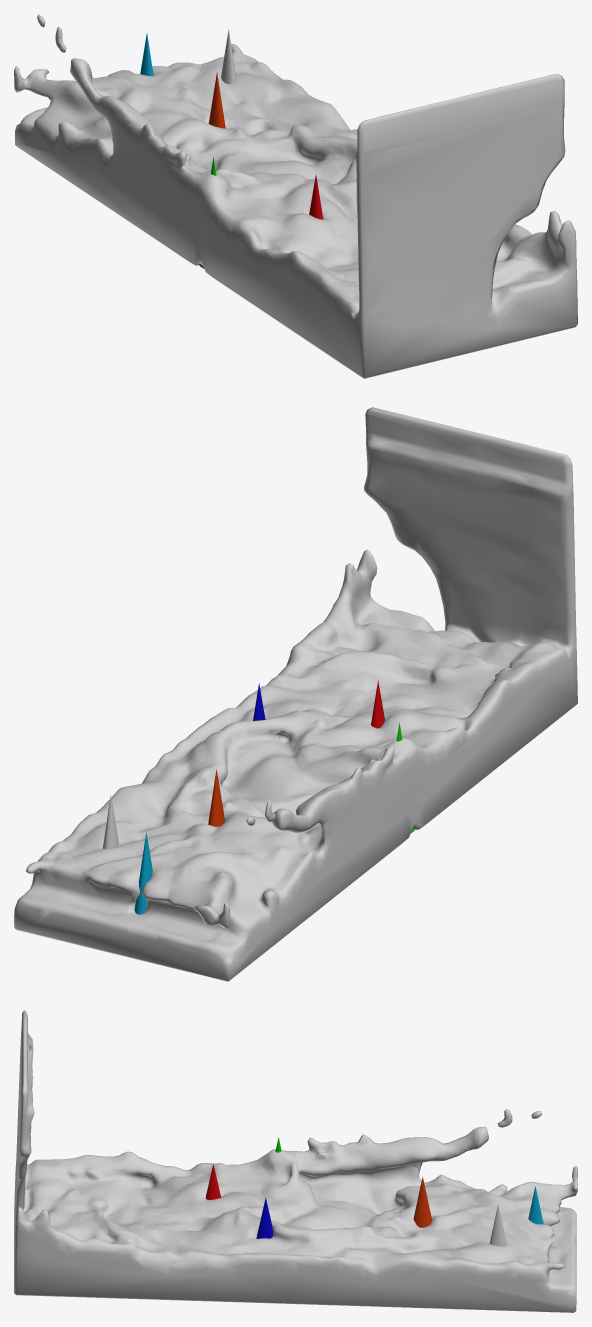
3 renders of one model, top to bottom at view 1: azimuth 30°, elevation 25°; view 2: azimuth 150°, elevation 25°; view 3: azimuth 270°, elevation 25°, orthographic. The views are drawn at different scales.
Visible parts, largest first — view 1: Liquid_Domain, 円錐.004, 円錐; view 2: Liquid_Domain; view 3: Liquid_Domain, 円錐.004, 円錐, 円錐.002.
Boxes of the visible parts, x1,y1,x2,y2 form: Liquid_Domain: (14, 14, 577, 378); 円錐.004: (208, 72, 225, 128); 円錐: (221, 29, 236, 84); Liquid_Domain: (14, 407, 577, 981); Liquid_Domain: (14, 1010, 577, 1312); 円錐.004: (413, 1177, 431, 1227); 円錐: (489, 1204, 506, 1246); 円錐.002: (256, 1197, 272, 1238).
Bounding box in the file's own units: 129 × 158 × 362.
